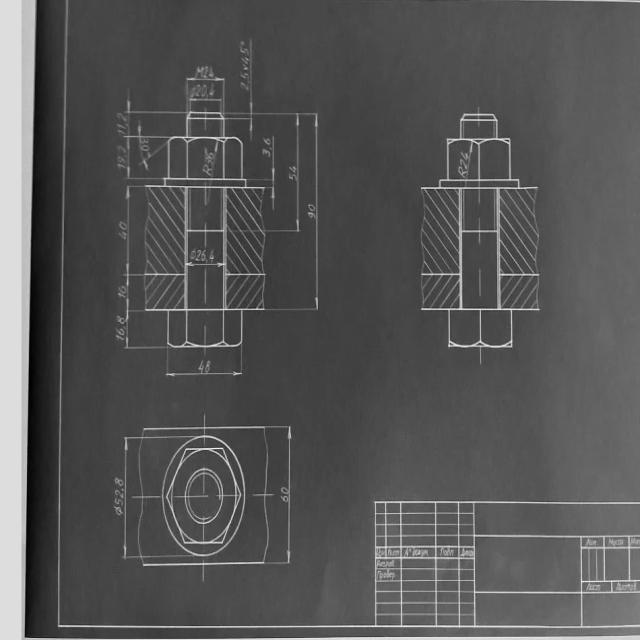marking_line: (266, 111, 319, 316), (267, 112, 301, 234), (125, 85, 168, 177), (125, 83, 163, 182), (270, 425, 292, 566), (226, 38, 254, 135), (164, 349, 244, 377), (121, 435, 137, 562), (125, 87, 187, 114), (126, 184, 143, 277), (186, 76, 226, 111), (242, 40, 254, 141), (121, 273, 144, 314), (124, 309, 145, 352), (266, 133, 276, 212), (122, 135, 168, 149), (189, 97, 222, 111), (208, 140, 218, 177), (464, 142, 473, 178), (189, 260, 223, 268)
numeric: (117, 111, 127, 122), (114, 477, 124, 488), (241, 55, 252, 65), (116, 314, 125, 326), (204, 149, 214, 159), (197, 359, 204, 373), (115, 334, 124, 344), (114, 490, 124, 499), (239, 81, 249, 90), (119, 220, 127, 231), (460, 158, 468, 169), (209, 83, 215, 97), (119, 285, 127, 295), (263, 136, 271, 146), (289, 163, 297, 173), (461, 150, 469, 160), (195, 84, 201, 97), (201, 84, 207, 97), (201, 249, 207, 261), (116, 327, 124, 336), (280, 495, 288, 504), (205, 361, 211, 373), (288, 173, 297, 181), (307, 211, 315, 220), (308, 203, 316, 212), (203, 66, 209, 78), (240, 71, 249, 79), (210, 250, 215, 264), (263, 148, 270, 158), (118, 231, 126, 239), (117, 164, 125, 172), (117, 128, 126, 135), (115, 497, 124, 504), (240, 46, 249, 53), (196, 249, 201, 261), (209, 66, 214, 78), (118, 155, 125, 163), (281, 487, 288, 495), (118, 293, 127, 299), (142, 145, 150, 151), (117, 124, 126, 129), (140, 139, 149, 144), (206, 159, 213, 165)
special_symbol: (114, 505, 124, 516), (190, 249, 196, 260)
